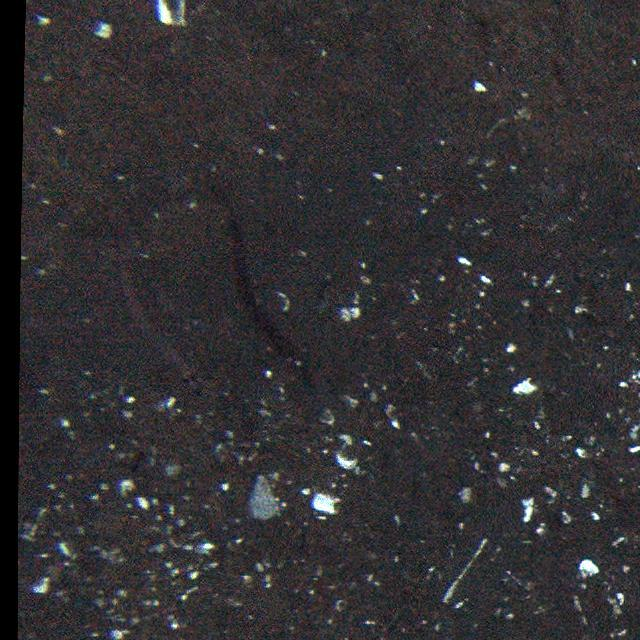roundfish: (114, 250, 204, 400)
